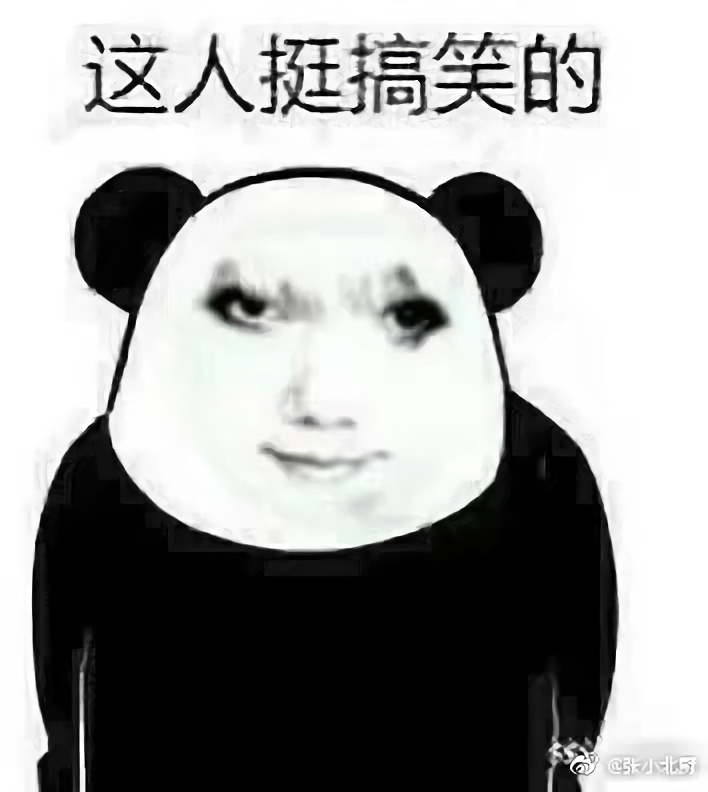dragon: (195, 261, 459, 489)
